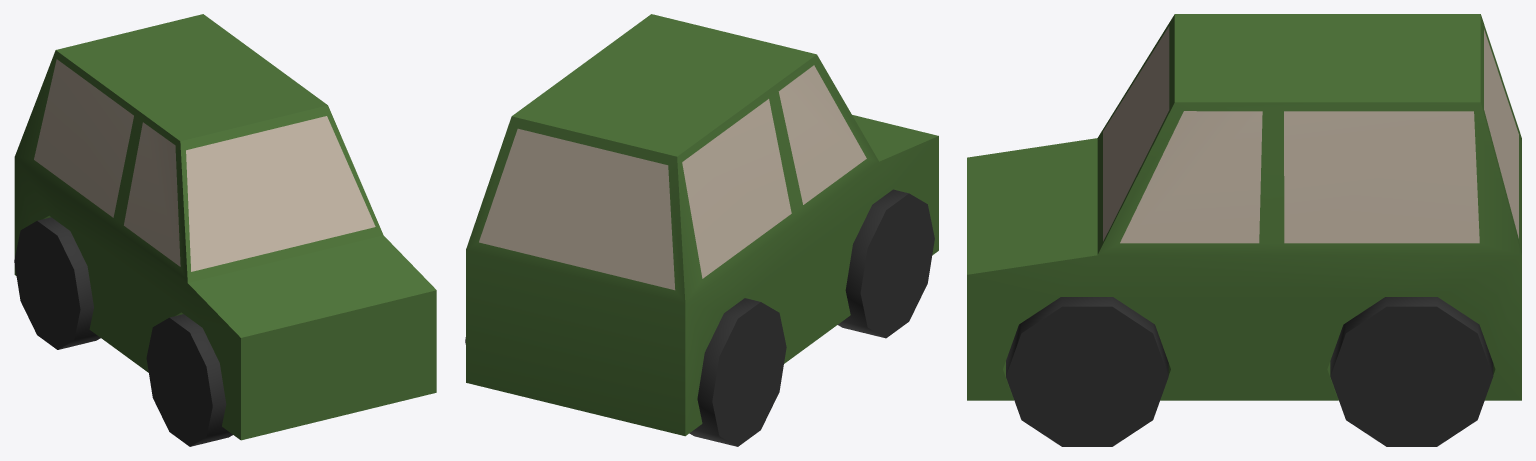
File: car.fbx
The picture shows the model from 3 angles, left to right: view 1: azimuth 30°, elevation 25°; view 2: azimuth 150°, elevation 25°; view 3: azimuth 270°, elevation 25°; orthographic projection. The views are drawn at different scales.
Visible parts, largest first — view 1: car; view 2: car; view 3: car.
Part boxes in pixels (x1,y1,x2,y2): car: (14, 14, 436, 446); car: (465, 14, 938, 446); car: (967, 14, 1521, 446).
Size of the model in its own units: 225 by 257 by 400.
